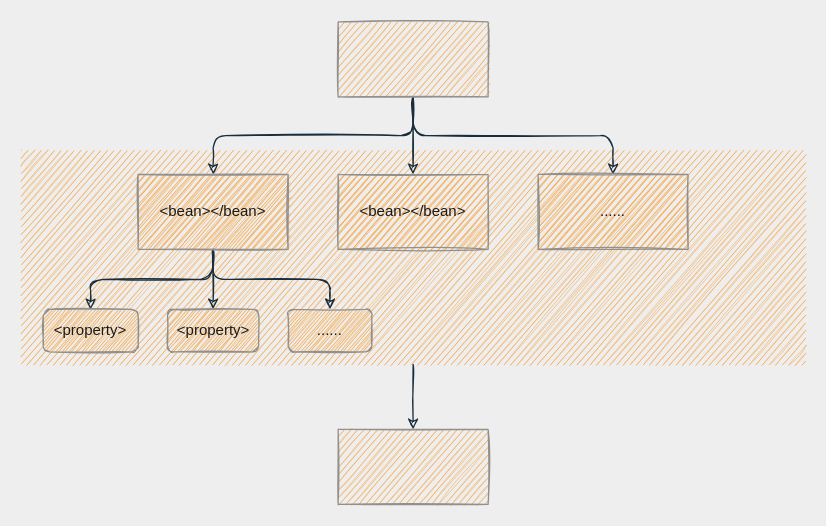
This 826x526 diagram has some shape labels left out. The shapes that lost their labels are listed below. From the top down, each one's centre as x and y in pixels, then its label:
(x=412, y=59): XML文件
(x=412, y=466): Registry BeanDefinition
